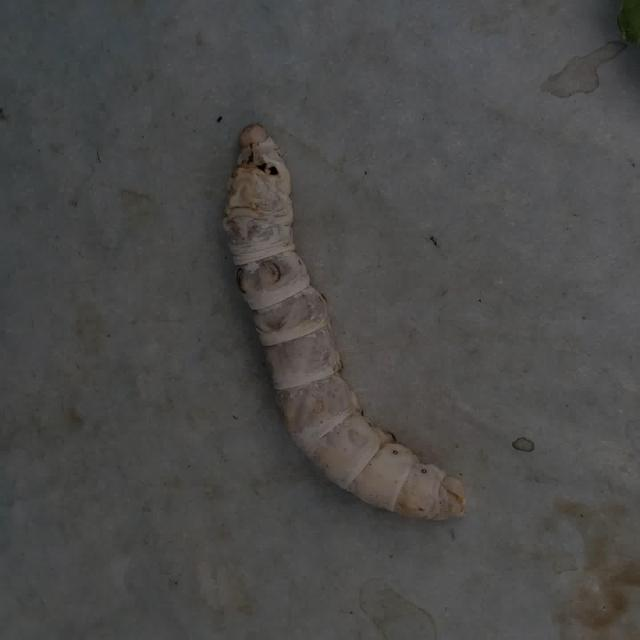Grasserie: (208, 109, 478, 529)
